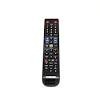remote control: (40, 19, 63, 89)
